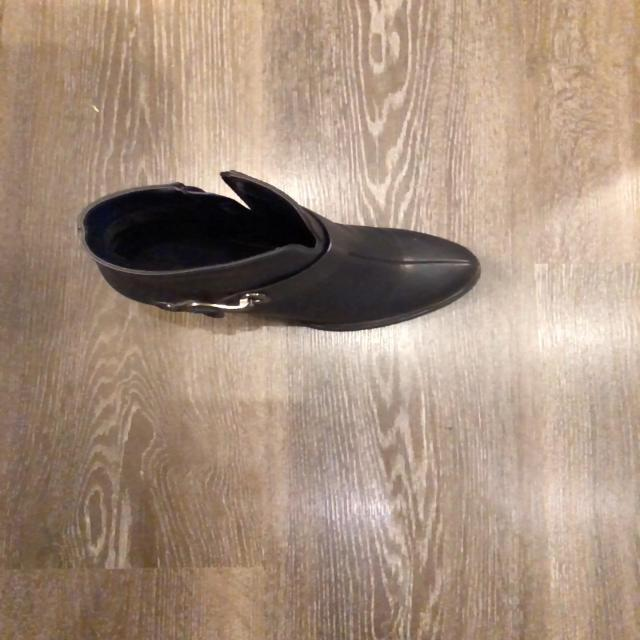shoe: (78, 170, 483, 335)
